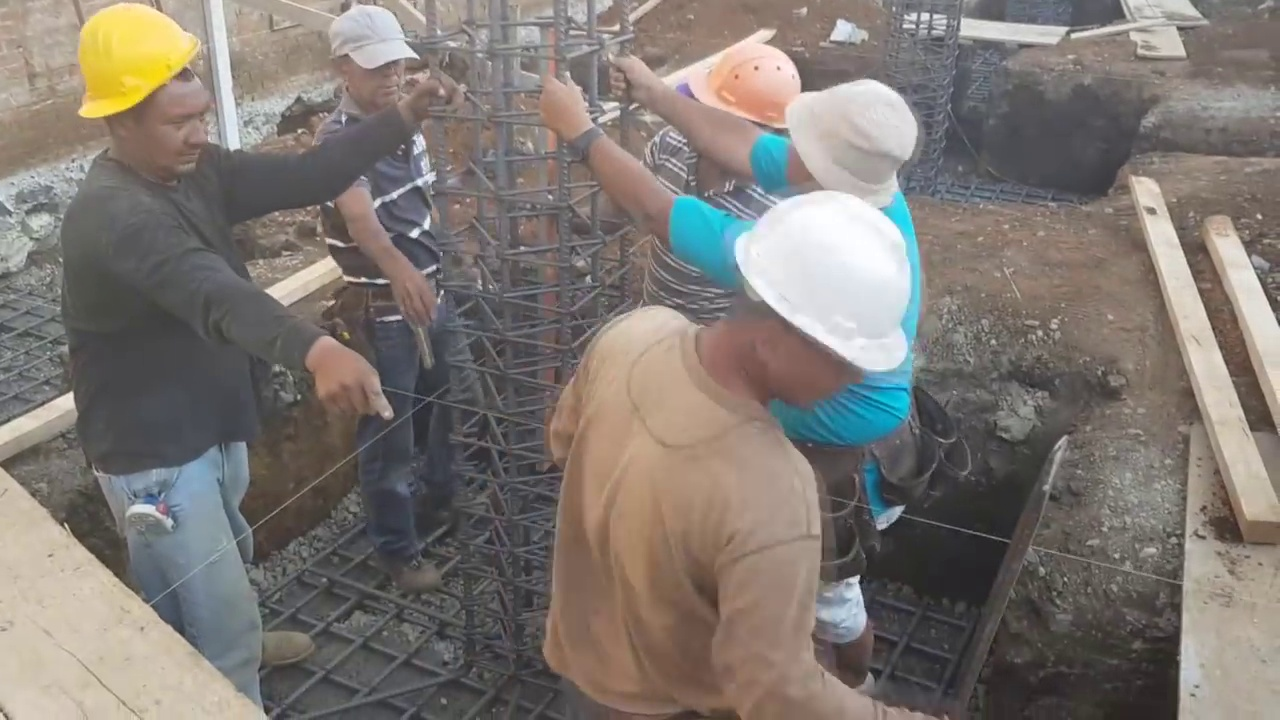helmet: (724, 193, 925, 393), (68, 2, 198, 120), (688, 45, 806, 135)
helmet-off: (786, 85, 925, 186), (322, 2, 423, 120)
helmet-on: (682, 189, 936, 412), (67, 3, 218, 190), (652, 31, 794, 165)
person: (58, 0, 424, 710), (546, 57, 930, 688), (511, 191, 931, 718), (295, 0, 476, 597), (637, 28, 798, 326)
